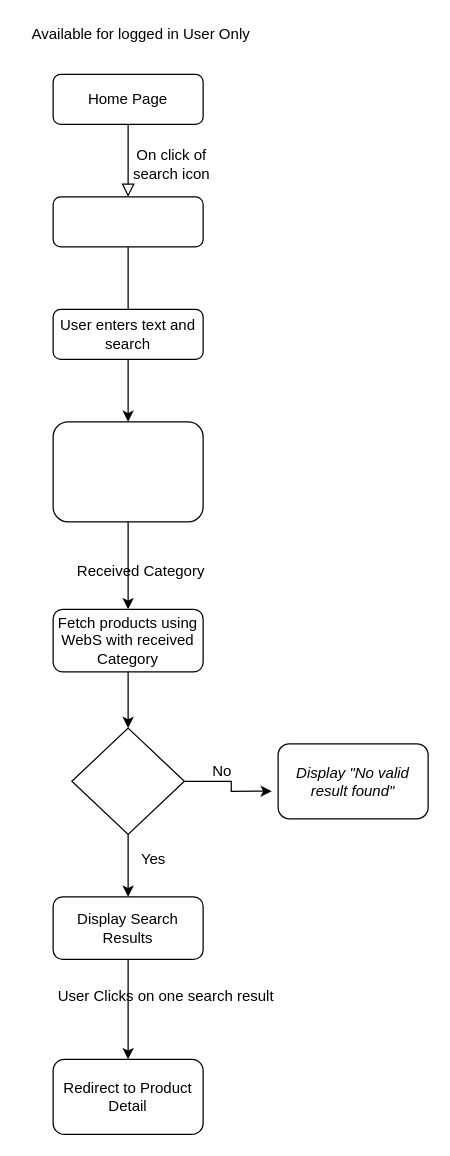
The diagram is 450 pixels wide and 1156 high, and some of its shapes have lost their labels. The box of each missing label's shape, as (x1, y1, x2, y2) in pixels:
Fetch Category using WebS Ex. EMIStore, Loan, Tool, Blog: (52, 421, 203, 522)
Fetch CityId using WebS: (52, 196, 203, 247)
search results > 0?: (71, 727, 184, 834)
